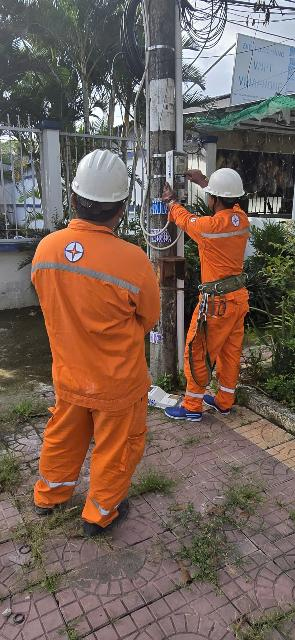gloves: (181, 163, 212, 192), (157, 180, 182, 210)
harness: (196, 267, 271, 306)
helmet: (63, 145, 141, 212), (202, 168, 247, 205)
shoes: (75, 494, 147, 540), (197, 388, 248, 423), (168, 386, 205, 434)
